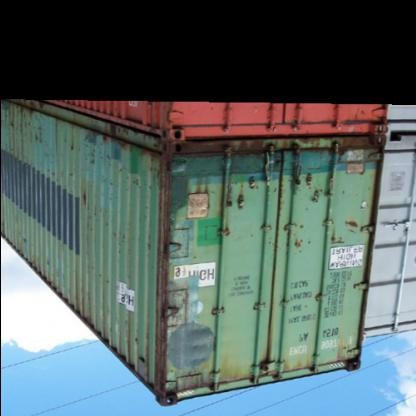Damage: (130, 146, 392, 196), (140, 149, 187, 401)
